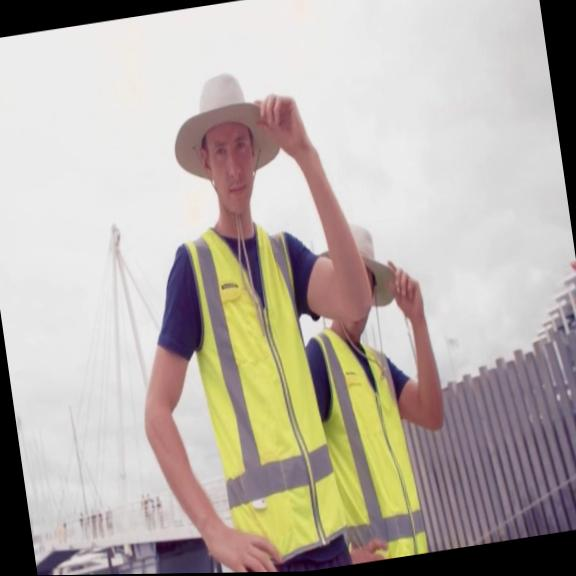safety_vest: (169, 206, 354, 573), (309, 317, 431, 566)
